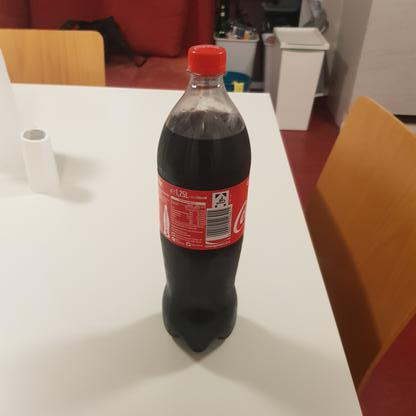coca-cola: (154, 44, 253, 359)
